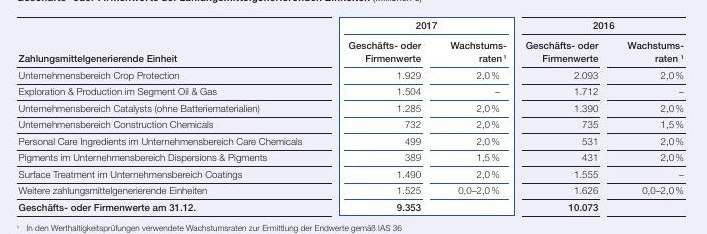table: (0, 0, 707, 234)
